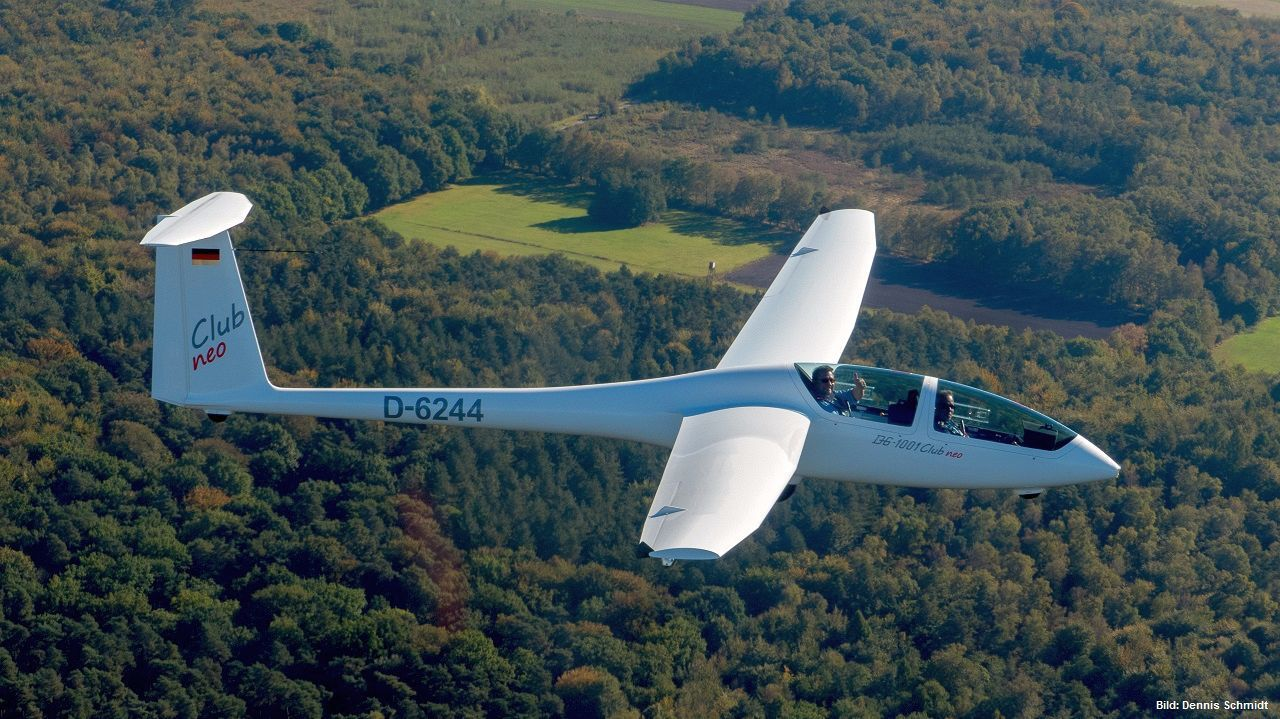Aeronef_de_loisir: (121, 176, 1145, 567)
